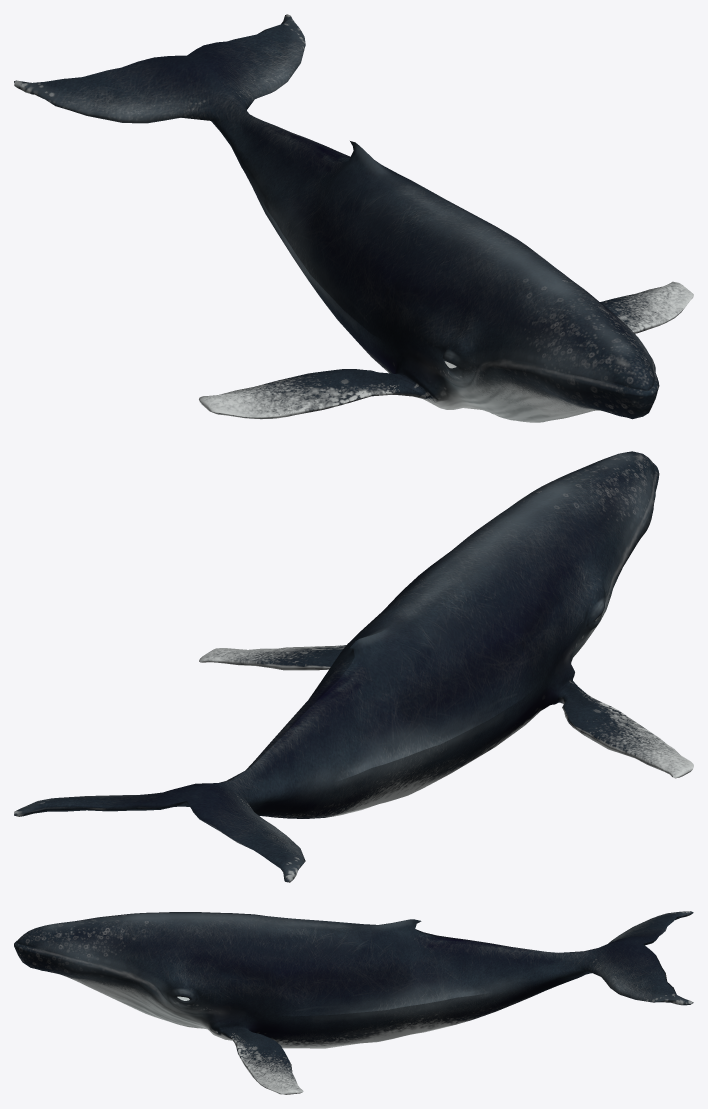
The model's file is game-ready_humpback_whale.glb.
3 views of the same model, one above another, from view 1: azimuth 30°, elevation 25°; view 2: azimuth 150°, elevation 25°; view 3: azimuth 270°, elevation 25° (orthographic). The views are drawn at different scales.
Visible parts, largest first — view 1: Object_2; view 2: Object_2; view 3: Object_2.
Part boxes in pixels (x1,y1,x2,y2): Object_2: (14,14,693,422); Object_2: (14,451,693,882); Object_2: (14,911,693,1094).
Size of the model in its own units: 28.88 by 10.6 by 51.95.
Materials: 1 (1 with a texture image).
